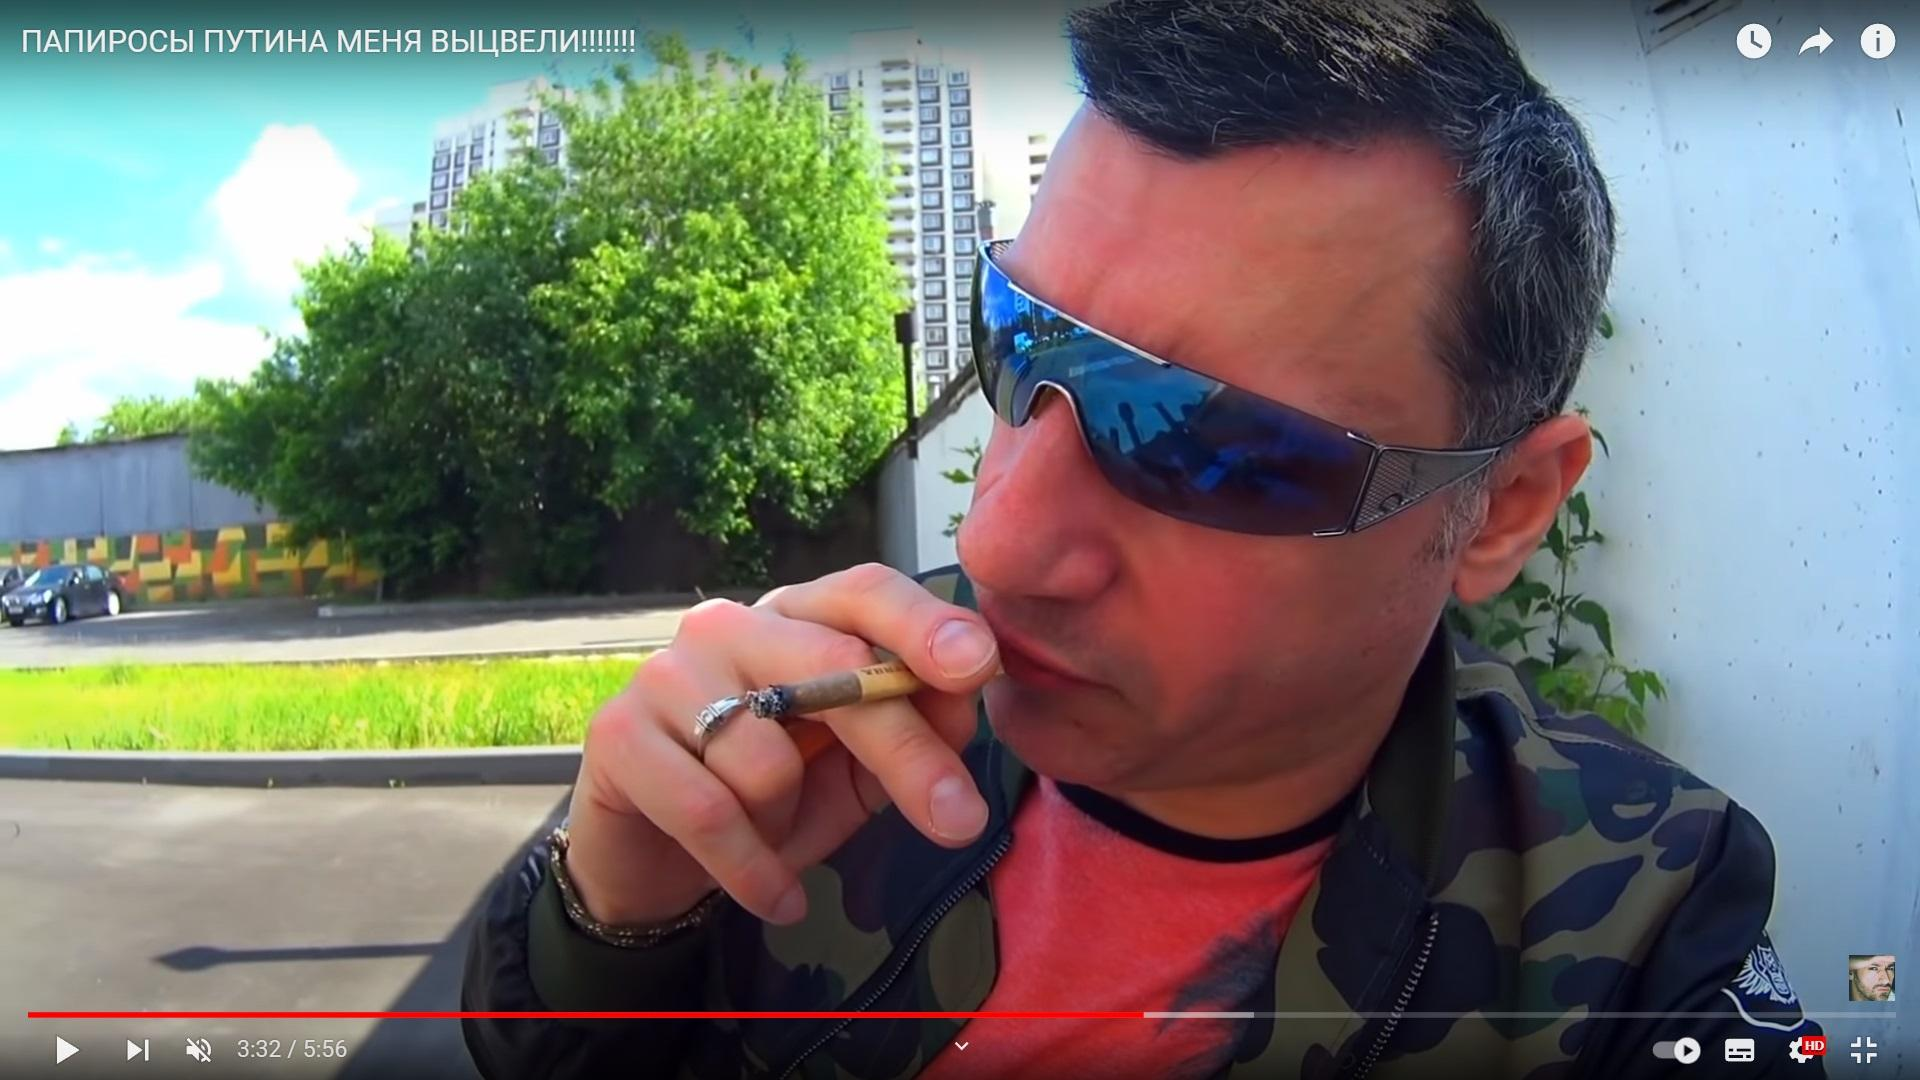cigarette: (748, 638, 1006, 721)
